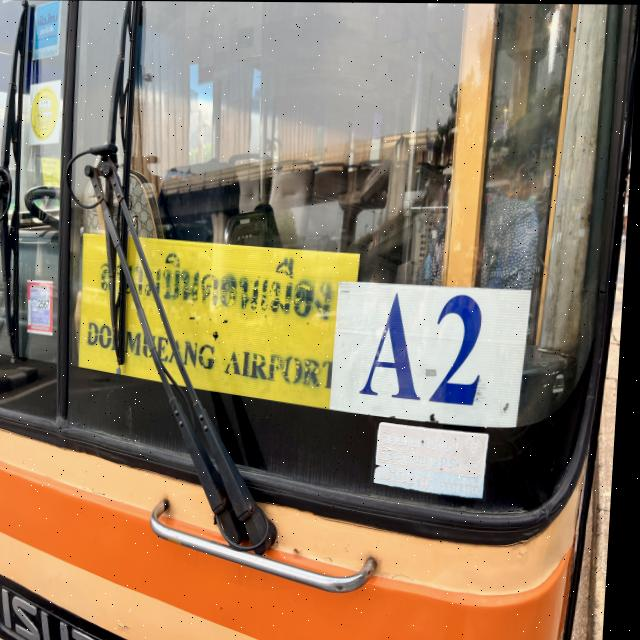BMTA-bus: (0, 0, 640, 640)
Destination-Sign-Normal-Expressway: (79, 235, 364, 413)
